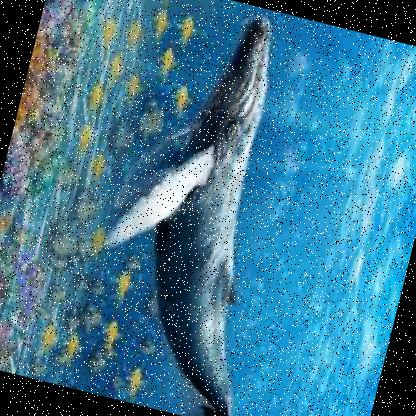blue_whale: (33, 0, 335, 415)
